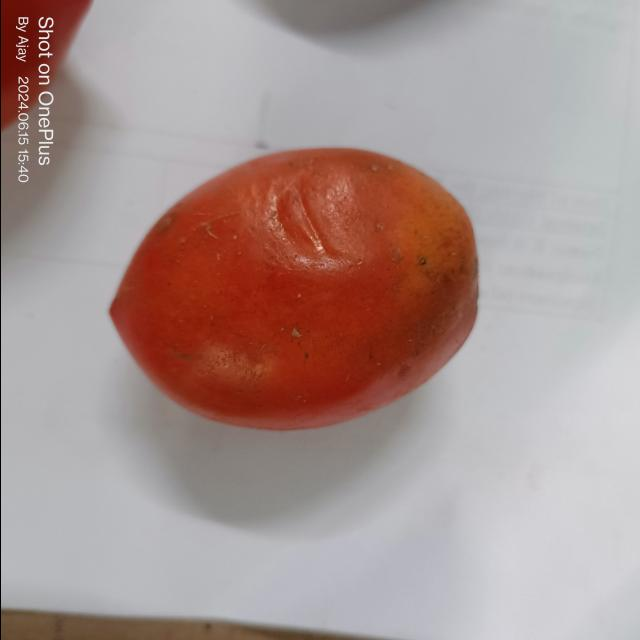Botrytis: (262, 164, 364, 268), (208, 309, 286, 383)
